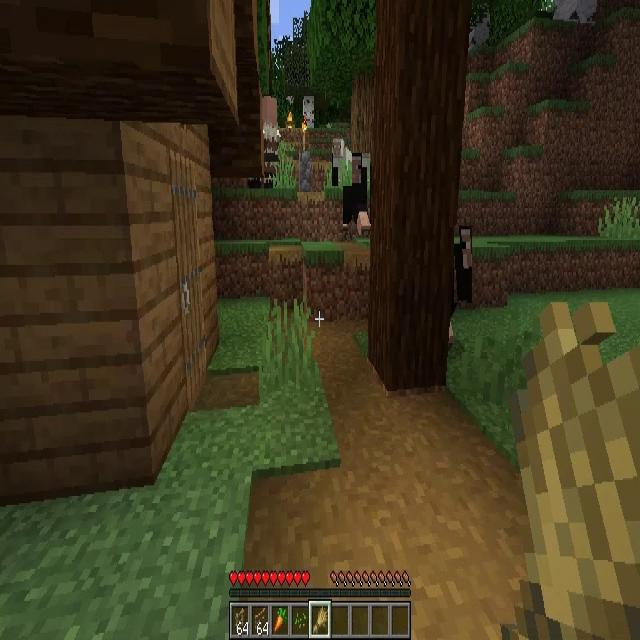people: (263, 97, 280, 187)
sheep: (343, 153, 370, 235), (454, 225, 472, 303), (332, 138, 352, 186)
